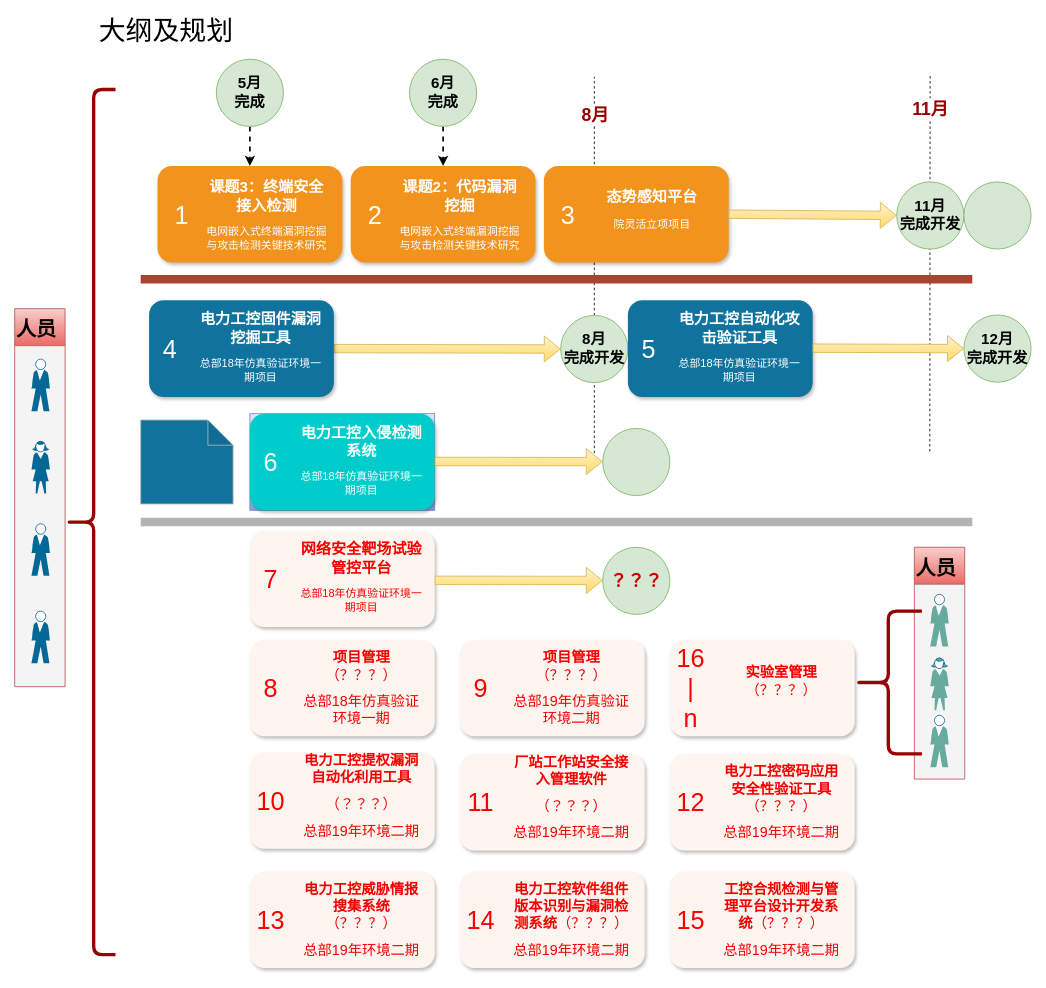
Image size: 1046x988. Some labels were removed from this diagram. Here are the shapes that lost their labels. From the top down, the centre of each, then its label:
the point at 997,215: 12月 完成测试
the point at 186,461: 9.1 19年二期项目概设 （6月8日）
the point at 636,462: 9月 完成开发
